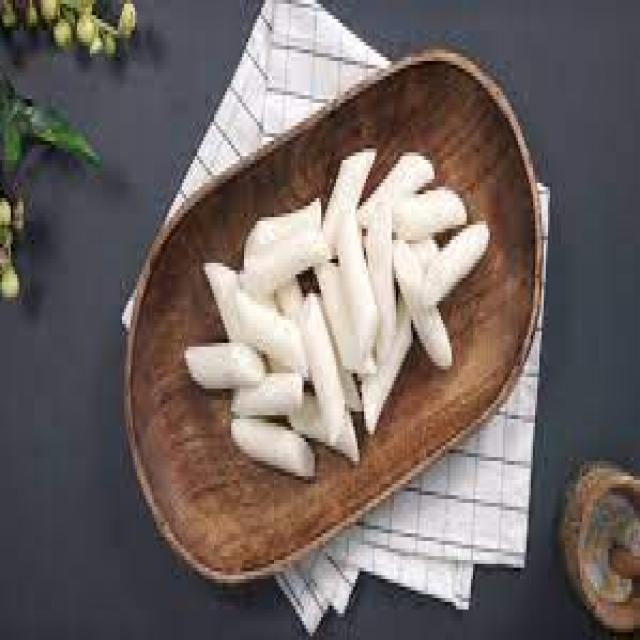rice_cake: (188, 149, 490, 478)
